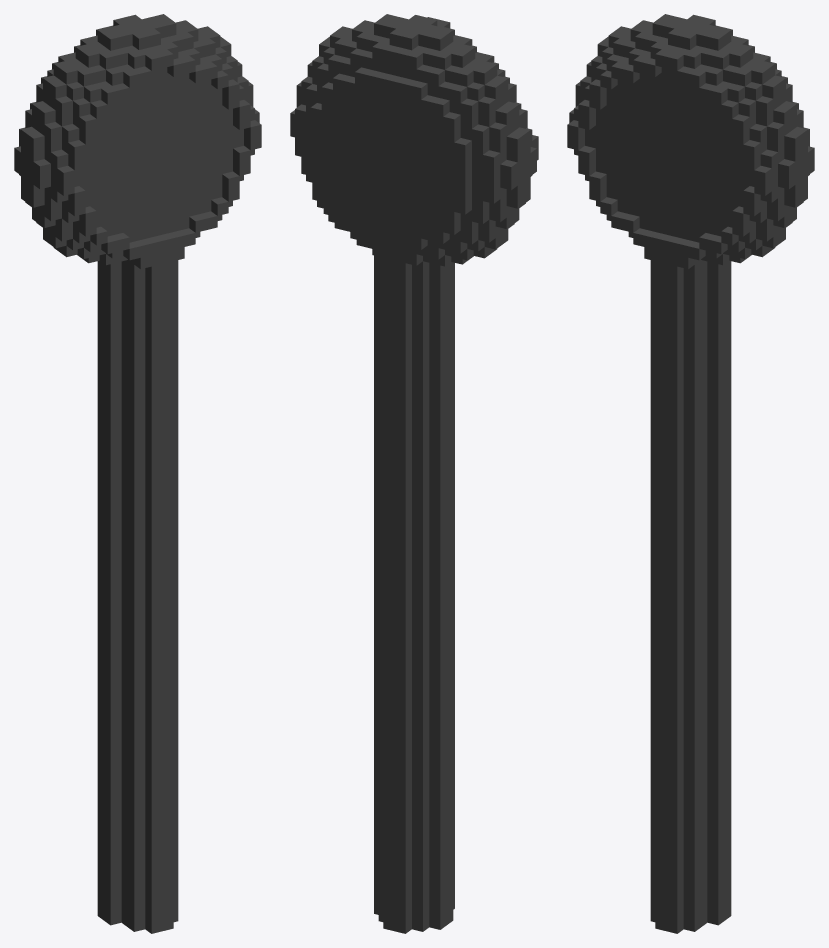
File: lever.glb
The picture shows the model from 3 angles, left to right: view 1: azimuth 30°, elevation 25°; view 2: azimuth 150°, elevation 25°; view 3: azimuth 330°, elevation 25°; orthographic projection.
Visible parts, largest first — view 1: box_22; view 2: box_22; view 3: box_22.
Boxes of the visible parts, x1,y1,x2,y2 form: box_22: [14, 14, 261, 933]; box_22: [290, 14, 538, 933]; box_22: [567, 14, 814, 933].
Size of the model in its own units: 2 by 7.7 by 0.8.
1 material, 1 textured.
